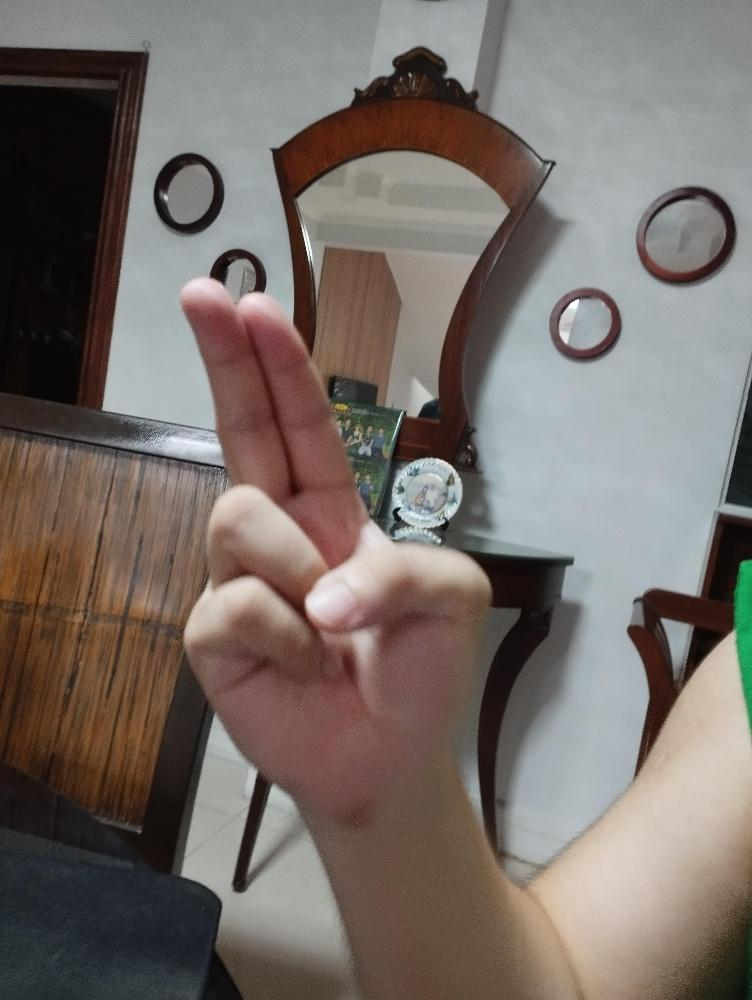u: (176, 273, 494, 812)
